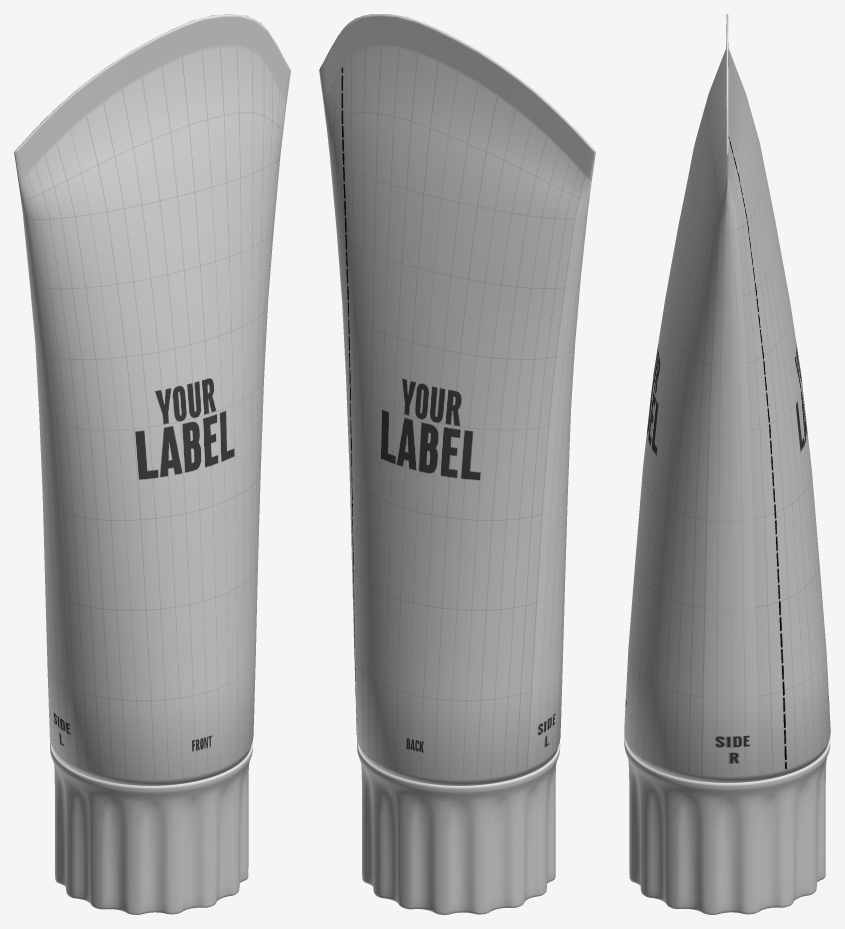
The model's file is TANDPASTA-PRODENT-ROUNDED-001_v1.gltf.
The picture shows the model from 3 angles, left to right: view 1: azimuth 30°, elevation 25°; view 2: azimuth 150°, elevation 25°; view 3: azimuth 270°, elevation 25°; orthographic projection. The views are drawn at different scales.
Visible parts, largest first — view 1: TANDPASTA-PRODENT-ID001_v1; view 2: TANDPASTA-PRODENT-ID001_v1; view 3: TANDPASTA-PRODENT-ID001_v1.
Boxes of the visible parts, bbox=[...] form: TANDPASTA-PRODENT-ID001_v1: bbox=[14, 14, 290, 914]; TANDPASTA-PRODENT-ID001_v1: bbox=[319, 14, 595, 914]; TANDPASTA-PRODENT-ID001_v1: bbox=[624, 14, 830, 914].
Size of the model in its own units: 0.0551 by 0.1608 by 0.0348.
Materials: 2 (1 with a texture image).
